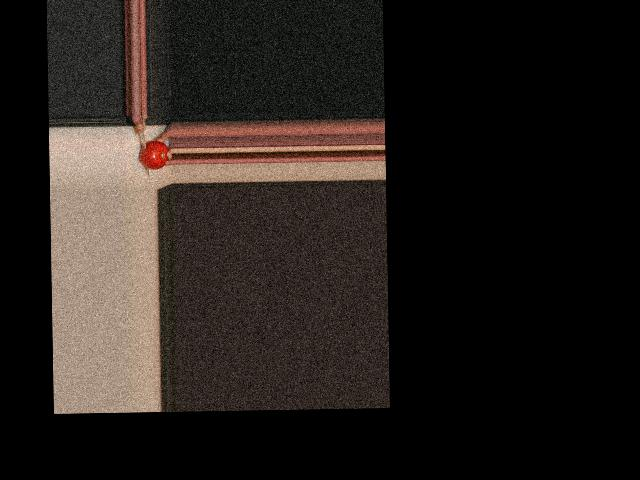tomato: (139, 140, 168, 170)
